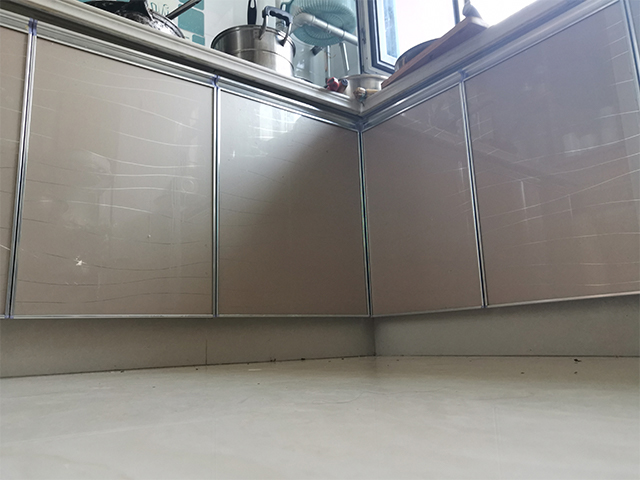cabinet: (1, 1, 368, 380), (362, 1, 640, 362)
